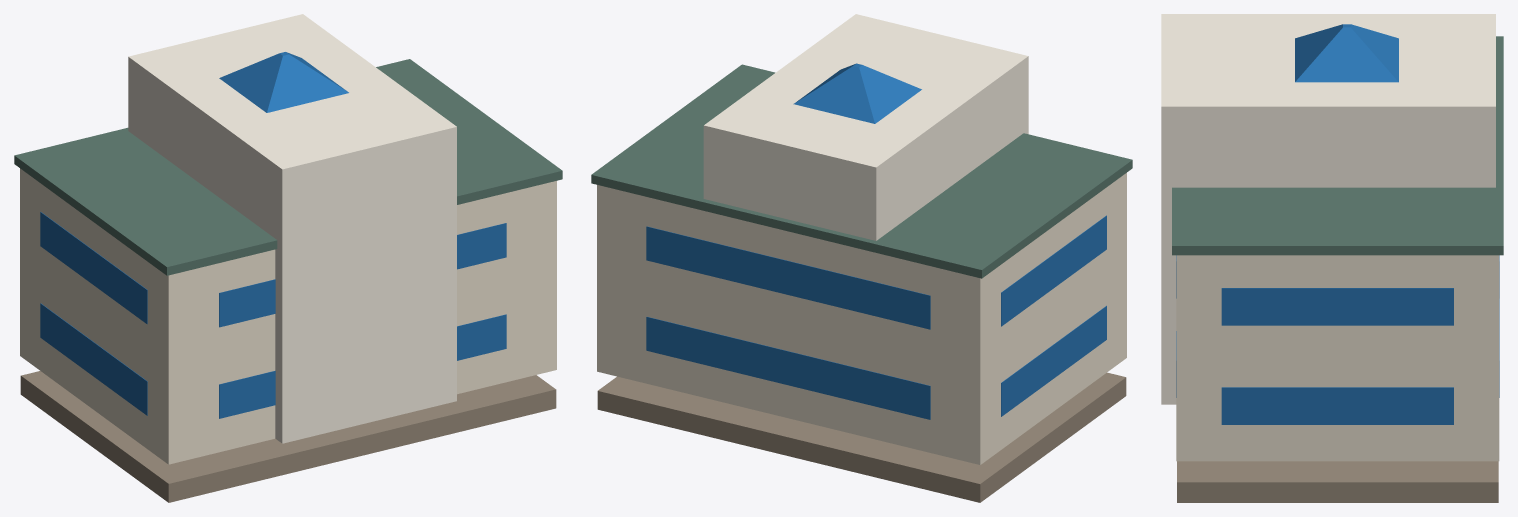
File: 08_civic_equipment-lod2.glb
3 views of the same model, side by side, from view 1: azimuth 30°, elevation 25°; view 2: azimuth 150°, elevation 25°; view 3: azimuth 270°, elevation 25° (orthographic). The views are drawn at different scales.
Parts seen in each view (by area): view 1: 08_civic_equipment_LOD2; view 2: 08_civic_equipment_LOD2; view 3: 08_civic_equipment_LOD2.
Part boxes in pixels (x1,y1,x2,y2): 08_civic_equipment_LOD2: (14, 14, 562, 502); 08_civic_equipment_LOD2: (591, 14, 1132, 502); 08_civic_equipment_LOD2: (1161, 14, 1503, 502).
Bounding box in the file's own units: 16.3 × 13.57 × 11.25.
2 materials, 2 textured.
